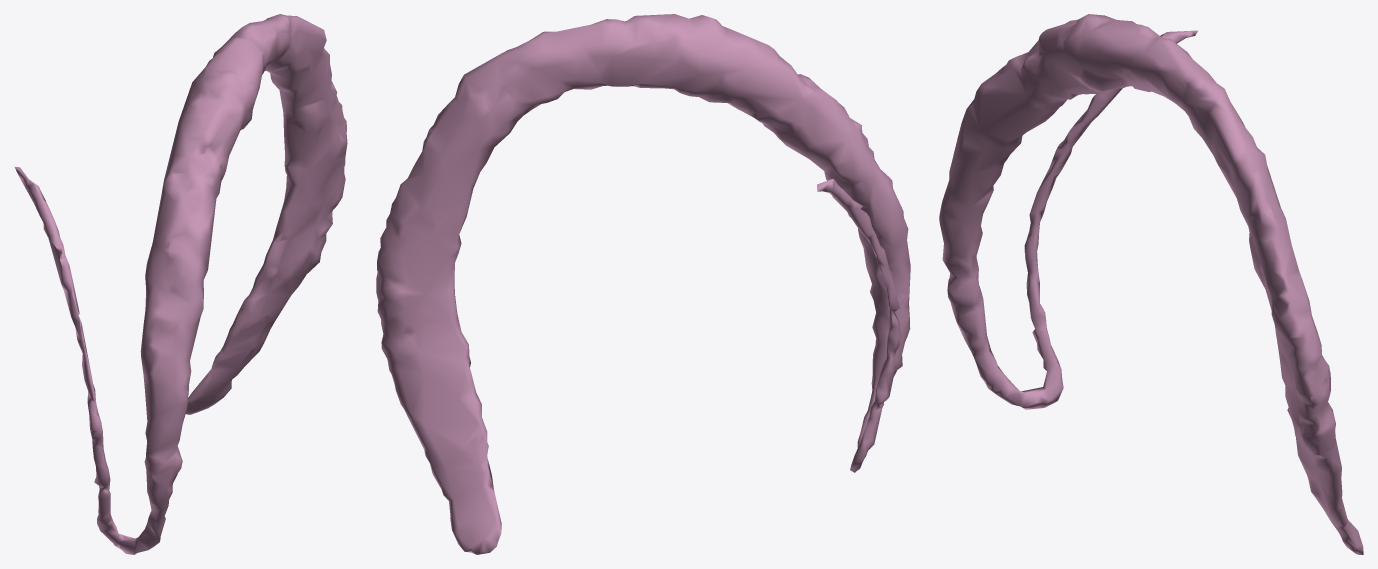
3 views of the same model, side by side, from view 1: azimuth 30°, elevation 25°; view 2: azimuth 150°, elevation 25°; view 3: azimuth 270°, elevation 25° (orthographic). The views are drawn at different scales.
Visible parts, largest first — view 1: 左侧脉络丛; view 2: 左侧脉络丛; view 3: 左侧脉络丛.
Part boxes in pixels (x1,y1,x2,y2): 左侧脉络丛: (14,14,347,554); 左侧脉络丛: (376,14,910,554); 左侧脉络丛: (939,14,1363,554).
Size of the model in its own units: 0.0535 by 0.062 by 0.0484.
